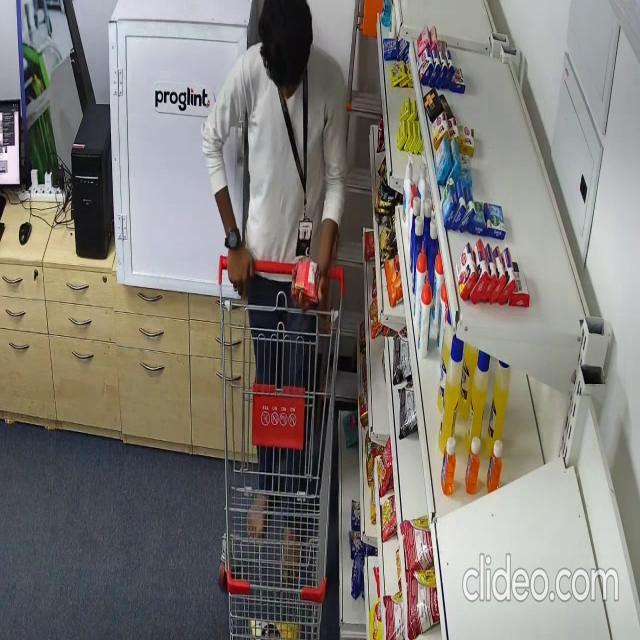normal: (204, 0, 354, 594)
